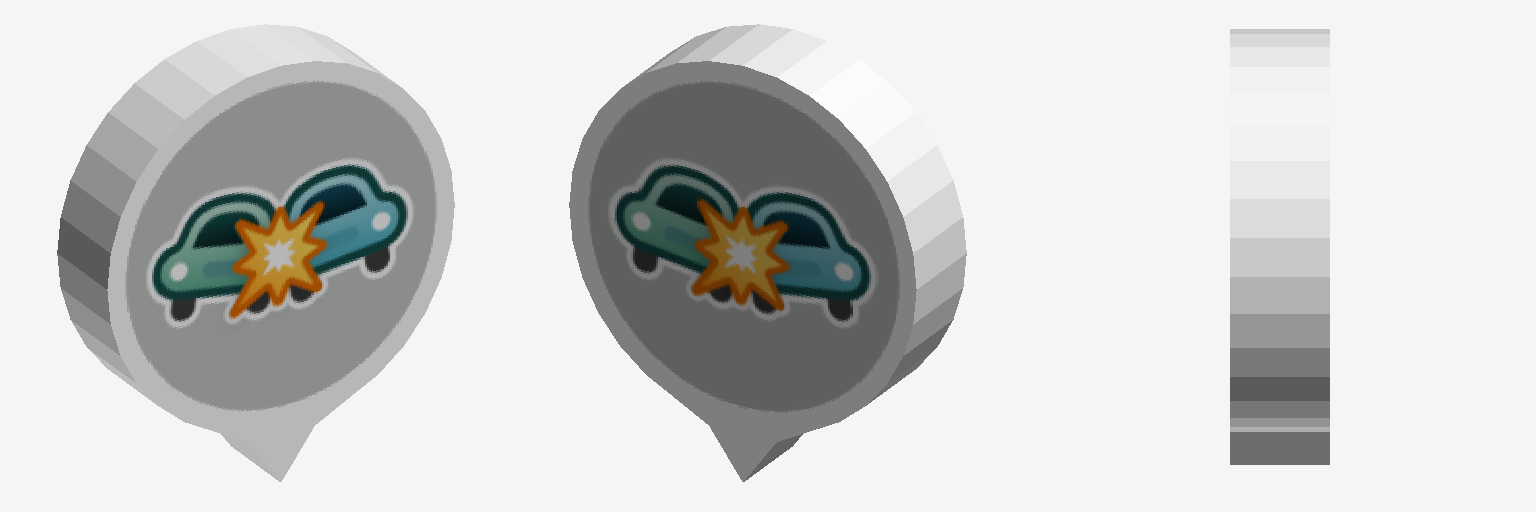
3 renders of one model, left to right at view 1: azimuth 30°, elevation 25°; view 2: azimuth 150°, elevation 25°; view 3: azimuth 270°, elevation 25°, orthographic.
Parts seen in each view (by area): view 1: Cylinder; view 2: Cylinder; view 3: Cylinder.
Boxes of the visible parts, x1=… form: Cylinder: x1=57, y1=24, x2=454, y2=481; Cylinder: x1=569, y1=24, x2=966, y2=481; Cylinder: x1=1230, y1=29, x2=1329, y2=464.
Size of the model in its own units: 2 by 2.29 by 0.5.
Materials: 1 (1 with a texture image).